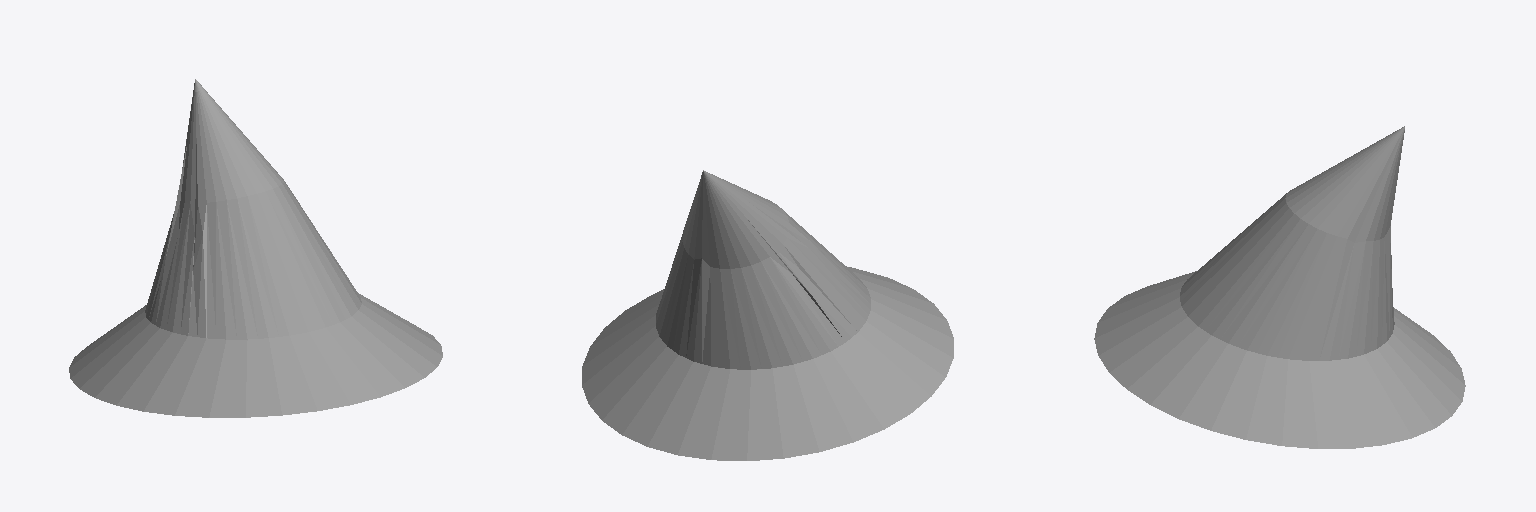
The model's file is WizardHat.obj.
3 renders of one model, left to right at view 1: azimuth 30°, elevation 25°; view 2: azimuth 150°, elevation 25°; view 3: azimuth 270°, elevation 25°, orthographic.
Visible parts, largest first — view 1: Hat_Cone; view 2: Hat_Cone; view 3: Hat_Cone.
Boxes of the visible parts, box(x1,y1,x2,y2) form: Hat_Cone: box(69, 79, 442, 417); Hat_Cone: box(582, 170, 953, 460); Hat_Cone: box(1094, 126, 1465, 448).
Size of the model in its own units: 6.29 by 4.86 by 6.23.